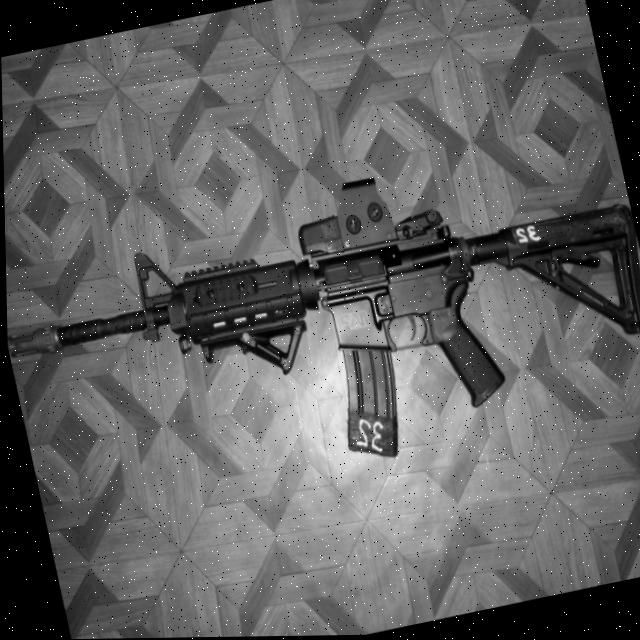firearm: (2, 127, 640, 530)
